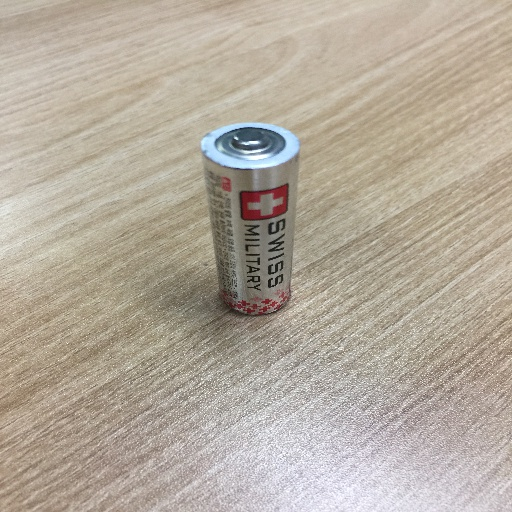Battery_0: (192, 117, 314, 319)
